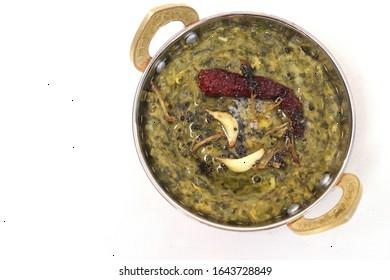saag: (143, 27, 337, 224)
